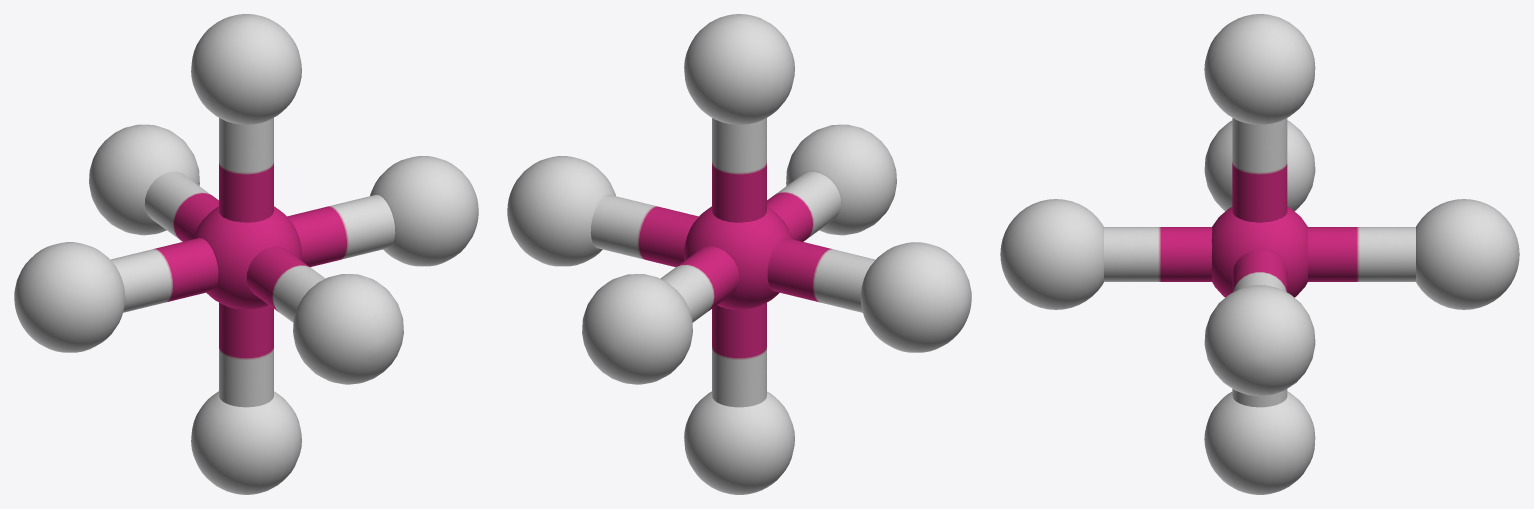
3 renders of one model, left to right at view 1: azimuth 30°, elevation 25°; view 2: azimuth 150°, elevation 25°; view 3: azimuth 270°, elevation 25°, orthographic.
Visible parts, largest first — view 1: OchtahedralBond; view 2: OchtahedralBond; view 3: OchtahedralBond.
Part boxes in pixels (x1,y1,x2,y2): OchtahedralBond: (14,14,478,494); OchtahedralBond: (507,14,971,494); OchtahedralBond: (1000,14,1519,494).
Size of the model in its own units: 95.6 by 95.6 by 95.6.
1 material, 1 textured.
